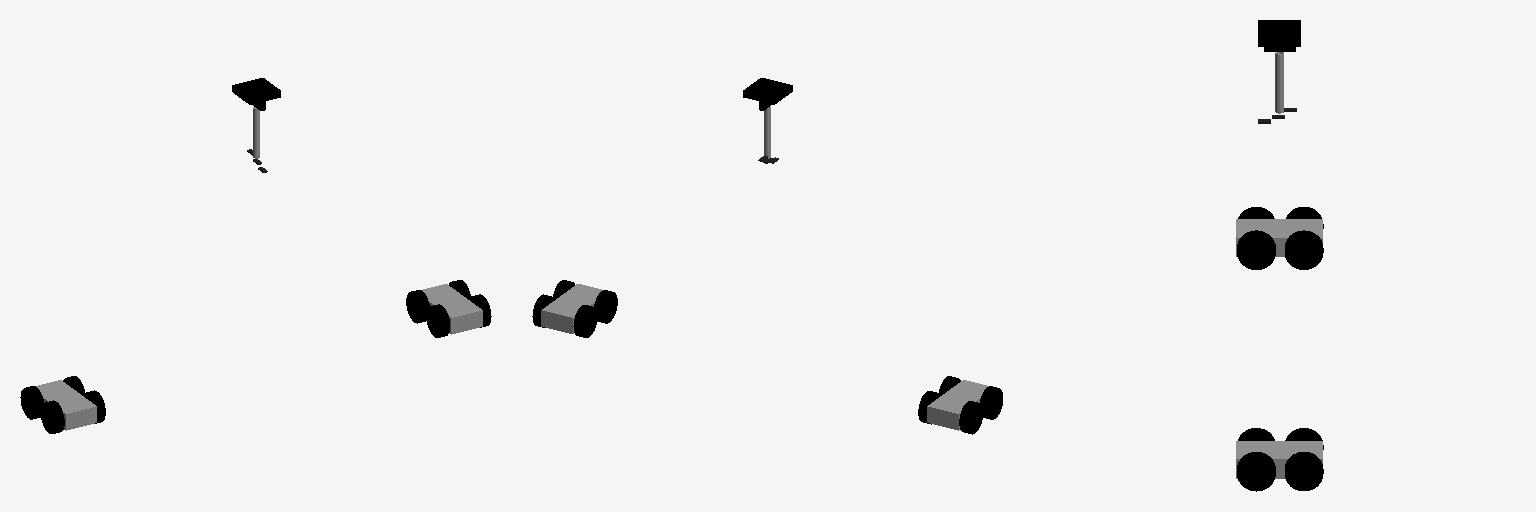
--- Render facts (derived) ---
The picture shows the robot from 3 angles, left to right: view 1: azimuth 30°, elevation 25°; view 2: azimuth 150°, elevation 25°; view 3: azimuth 270°, elevation 25°; orthographic projection.
Robot: frame — 36 links, 35 joints (8 continuous, 4 prismatic, 23 fixed); root link Untitled.020; default pose: all joints at 0.
Visible links, largest first — view 1: Untitled.009, Untitled.004, Untitled.026, Untitled.008, Untitled.017, Untitled.011, Untitled.007; view 2: Untitled.009, Untitled.004, Untitled.026, Untitled.007, Untitled.011, Untitled.017, Untitled.008; view 3: Untitled.004, Untitled.009, Untitled.005, Untitled.015, Untitled.006, Untitled.013, Untitled.026, Untitled.030.
Boxes of the visible links, x1,y1,x2,y2 form: Untitled.009: (422,284,482,334); Untitled.004: (36,380,96,430); Untitled.026: (232,78,280,104); Untitled.008: (41,400,64,433); Untitled.017: (426,304,449,337); Untitled.011: (406,290,429,323); Untitled.007: (20,386,43,419); Untitled.009: (541,284,602,333); Untitled.004: (927,380,988,430); Untitled.026: (743,78,792,104); Untitled.007: (959,401,982,434); Untitled.011: (573,305,597,337); Untitled.017: (594,290,617,323); Untitled.008: (980,386,1002,419); Untitled.004: (1236,219,1322,256); Untitled.009: (1236,441,1322,478); Untitled.005: (1237,230,1275,269); Untitled.015: (1237,452,1275,491); Untitled.006: (1285,230,1323,269); Untitled.013: (1285,452,1323,490); Untitled.026: (1258,20,1300,46); Untitled.030: (1275,52,1283,113).
Bounding box of the posed robot: 2.75 × 0.4022 × 1.73 m (x, y, z).
1 mesh visuals loaded from 7 distinct referenced files (1 binary STL); not drawn: 6 (reference not matched to a file when rendering).

URDF robot description (frame):
<?xml version="1.0"?>
<!-- created with Phobos 1.0.1 "Capricious Choutengan" -->
  <robot name="frame">

    <link name="Untitled">
      <inertial>
        <origin xyz="0 0 0" rpy="0 0 0"/>
        <mass value="0.001"/>
        <inertia ixx="0.001" ixy="0" ixz="0" iyy="0.001" iyz="0" izz="0.001"/>
      </inertial>
    </link>

    <link name="Untitled.001">
      <inertial>
        <origin xyz="0 0 0" rpy="0 0 0"/>
        <mass value="0.001"/>
        <inertia ixx="0.001" ixy="0" ixz="0" iyy="0.001" iyz="0" izz="0.001"/>
      </inertial>
    </link>

    <link name="Untitled.002">
      <inertial>
        <origin xyz="0 0 0" rpy="0 0 0"/>
        <mass value="0.001"/>
        <inertia ixx="0.001" ixy="0" ixz="0" iyy="0.001" iyz="0" izz="0.001"/>
      </inertial>
    </link>

    <link name="Untitled.003">
      <inertial>
        <origin xyz="0 0 0" rpy="0 0 0"/>
        <mass value="0.001"/>
        <inertia ixx="0.001" ixy="0" ixz="0" iyy="0.001" iyz="0" izz="0.001"/>
      </inertial>
    </link>

    <link name="Untitled.004">
      <inertial>
        <origin xyz="0 0 0" rpy="0 0 0"/>
        <mass value="4.0"/>
        <inertia ixx="0.00043" ixy="0" ixz="0" iyy="0.00145" iyz="0" izz="0.06667"/>
      </inertial>
      <visual name="base link.000">
        <origin xyz="0 0 0" rpy="0 0 0"/>
        <geometry>
          <box size="0.4 0.2 0.1"/>
        </geometry>
        <material name="Material.005"/>
      </visual>
      <collision name="base link.000">
        <origin xyz="0 0 0" rpy="0 0 0"/>
        <geometry>
          <box size="0.4 0.2 0.1"/>
        </geometry>
      </collision>
    </link>

    <link name="Untitled.005">
      <inertial>
        <origin xyz="0 0 0" rpy="0 0 0"/>
        <mass value="0.25"/>
        <inertia ixx="7e-05" ixy="0" ixz="0" iyy="0.00013" iyz="0" izz="0.00056"/>
      </inertial>
      <visual name="bl Link.000">
        <origin xyz="-0.0022 0 0" rpy="-3.14159 0 0"/>
        <geometry>
          <cylinder radius="0.09" length="0.05"/>
        </geometry>
        <material name="Material.004"/>
      </visual>
      <collision name="bl Link.000">
        <origin xyz="-0.0022 0 0" rpy="-3.14159 0 0"/>
        <geometry>
          <cylinder radius="0.09" length="0.05"/>
        </geometry>
      </collision>
    </link>

    <link name="Untitled.006">
      <inertial>
        <origin xyz="0 0 0" rpy="0 0 0"/>
        <mass value="0.25"/>
        <inertia ixx="7e-05" ixy="0" ixz="0" iyy="0.00013" iyz="0" izz="0.00056"/>
      </inertial>
      <visual name="bl Link.002.000">
        <origin xyz="-0.0022 0 0" rpy="-3.14159 0 0"/>
        <geometry>
          <cylinder radius="0.09" length="0.05"/>
        </geometry>
        <material name="Material.001"/>
      </visual>
      <collision name="bl Link.002.000">
        <origin xyz="-0.0022 0 0" rpy="-3.14159 0 0"/>
        <geometry>
          <cylinder radius="0.09" length="0.05"/>
        </geometry>
      </collision>
    </link>

    <link name="Untitled.007">
      <inertial>
        <origin xyz="0 0 0" rpy="0 0 0"/>
        <mass value="0.25"/>
        <inertia ixx="7e-05" ixy="0" ixz="0" iyy="0.00013" iyz="0" izz="0.00056"/>
      </inertial>
      <visual name="bl Link.003.000">
        <origin xyz="-0.0022 0 0" rpy="0 0 0"/>
        <geometry>
          <cylinder radius="0.09" length="0.05"/>
        </geometry>
        <material name="Material.002"/>
      </visual>
      <collision name="bl Link.003.000">
        <origin xyz="-0.0022 0 0" rpy="0 0 0"/>
        <geometry>
          <cylinder radius="0.09" length="0.05"/>
        </geometry>
      </collision>
    </link>

    <link name="Untitled.008">
      <inertial>
        <origin xyz="0 0 0" rpy="0 0 0"/>
        <mass value="0.25"/>
        <inertia ixx="7e-05" ixy="0" ixz="0" iyy="0.00013" iyz="0" izz="0.00056"/>
      </inertial>
      <visual name="bl Link.001.000">
        <origin xyz="-0.0022 0 0" rpy="0 0 0"/>
        <geometry>
          <cylinder radius="0.09" length="0.05"/>
        </geometry>
        <material name="Material.003"/>
      </visual>
      <collision name="bl Link.001.000">
        <origin xyz="-0.0022 0 0" rpy="0 0 0"/>
        <geometry>
          <cylinder radius="0.09" length="0.05"/>
        </geometry>
      </collision>
    </link>

    <link name="Untitled.009">
      <inertial>
        <origin xyz="0 0 0" rpy="0 0 0"/>
        <mass value="4.0"/>
        <inertia ixx="0.00043" ixy="0" ixz="0" iyy="0.00145" iyz="0" izz="0.06667"/>
      </inertial>
      <visual name="base link.001">
        <origin xyz="0 0 0" rpy="0 0 0"/>
        <geometry>
          <box size="0.4 0.2 0.1"/>
        </geometry>
        <material name="Material.005"/>
      </visual>
      <collision name="base link.000">
        <origin xyz="0 0 0" rpy="0 0 0"/>
        <geometry>
          <box size="0.4 0.2 0.1"/>
        </geometry>
      </collision>
    </link>

    <link name="Untitled.010">
      <inertial>
        <origin xyz="0 0 0" rpy="0 0 0"/>
        <mass value="0.001"/>
        <inertia ixx="0.001" ixy="0" ixz="0" iyy="0.001" iyz="0" izz="0.001"/>
      </inertial>
    </link>

    <link name="Untitled.011">
      <inertial>
        <origin xyz="0 0 0" rpy="0 0 0"/>
        <mass value="0.25"/>
        <inertia ixx="7e-05" ixy="0" ixz="0" iyy="0.00013" iyz="0" izz="0.00056"/>
      </inertial>
      <visual name="bl Link.003.001">
        <origin xyz="-0.0022 0 0" rpy="0 0 0"/>
        <geometry>
          <cylinder radius="0.09" length="0.05"/>
        </geometry>
        <material name="Material.002"/>
      </visual>
      <collision name="bl Link.003.000">
        <origin xyz="-0.0022 0 0" rpy="0 0 0"/>
        <geometry>
          <cylinder radius="0.09" length="0.05"/>
        </geometry>
      </collision>
    </link>

    <link name="Untitled.012">
      <inertial>
        <origin xyz="0 0 0" rpy="0 0 0"/>
        <mass value="0.001"/>
        <inertia ixx="0.001" ixy="0" ixz="0" iyy="0.001" iyz="0" izz="0.001"/>
      </inertial>
    </link>

    <link name="Untitled.013">
      <inertial>
        <origin xyz="0 0 0" rpy="0 0 0"/>
        <mass value="0.25"/>
        <inertia ixx="7e-05" ixy="0" ixz="0" iyy="0.00013" iyz="0" izz="0.00056"/>
      </inertial>
      <visual name="bl Link.002.001">
        <origin xyz="-0.0022 0 0" rpy="-3.14159 0 0"/>
        <geometry>
          <cylinder radius="0.09" length="0.05"/>
        </geometry>
        <material name="Material.001"/>
      </visual>
      <collision name="bl Link.002.000">
        <origin xyz="-0.0022 0 0" rpy="-3.14159 0 0"/>
        <geometry>
          <cylinder radius="0.09" length="0.05"/>
        </geometry>
      </collision>
    </link>

    <link name="Untitled.014">
      <inertial>
        <origin xyz="0 0 0" rpy="0 0 0"/>
        <mass value="0.001"/>
        <inertia ixx="0.001" ixy="0" ixz="0" iyy="0.001" iyz="0" izz="0.001"/>
      </inertial>
    </link>

    <link name="Untitled.015">
      <inertial>
        <origin xyz="0 0 0" rpy="0 0 0"/>
        <mass value="0.25"/>
        <inertia ixx="7e-05" ixy="0" ixz="0" iyy="0.00013" iyz="0" izz="0.00056"/>
      </inertial>
      <visual name="bl Link.001">
        <origin xyz="-0.0022 0 0" rpy="-3.14159 0 0"/>
        <geometry>
          <cylinder radius="0.09" length="0.05"/>
        </geometry>
        <material name="Material.004"/>
      </visual>
      <collision name="bl Link.000">
        <origin xyz="-0.0022 0 0" rpy="-3.14159 0 0"/>
        <geometry>
          <cylinder radius="0.09" length="0.05"/>
        </geometry>
      </collision>
    </link>

    <link name="Untitled.016">
      <inertial>
        <origin xyz="0 0 0" rpy="0 0 0"/>
        <mass value="0.001"/>
        <inertia ixx="0.001" ixy="0" ixz="0" iyy="0.001" iyz="0" izz="0.001"/>
      </inertial>
    </link>

    <link name="Untitled.017">
      <inertial>
        <origin xyz="0 0 0" rpy="0 0 0"/>
        <mass value="0.25"/>
        <inertia ixx="7e-05" ixy="0" ixz="0" iyy="0.00013" iyz="0" izz="0.00056"/>
      </inertial>
      <visual name="bl Link.001.001">
        <origin xyz="-0.0022 0 0" rpy="0 0 0"/>
        <geometry>
          <cylinder radius="0.09" length="0.05"/>
        </geometry>
        <material name="Material.003"/>
      </visual>
      <collision name="bl Link.001.000">
        <origin xyz="-0.0022 0 0" rpy="0 0 0"/>
        <geometry>
          <cylinder radius="0.09" length="0.05"/>
        </geometry>
      </collision>
    </link>

    <link name="Untitled.018">
      <inertial>
        <origin xyz="0 0 0" rpy="0 0 0"/>
        <mass value="0.001"/>
        <inertia ixx="0.001" ixy="0" ixz="0" iyy="0.001" iyz="0" izz="0.001"/>
      </inertial>
    </link>

    <link name="Untitled.019">
      <inertial>
        <origin xyz="0 0 0" rpy="0 0 0"/>
        <mass value="0.001"/>
        <inertia ixx="0.001" ixy="0" ixz="0" iyy="0.001" iyz="0" izz="0.001"/>
      </inertial>
    </link>

    <link name="Untitled.020">
      <inertial>
        <origin xyz="0 0 0" rpy="0 0 0"/>
        <mass value="6.0"/>
        <inertia ixx="5.68584" ixy="0" ixz="0" iyy="1.05355" iyz="0" izz="4.63377"/>
      </inertial>
      <visual name="base link.002">
        <origin xyz="0 0 -0.06" rpy="0 0 0"/>
        <geometry>
          <mesh filename="base link.004.stl" scale="1.0 1.0 1.0"/>
        </geometry>
        <material name="Material.007"/>
      </visual>
      <collision name="base link.002.000">
        <origin xyz="0 0 -0.06" rpy="0 0 0"/>
        <geometry>
          <mesh filename="base link.005.stl" scale="1.0 1.0 1.0"/>
        </geometry>
      </collision>
    </link>

    <link name="Untitled.021">
      <inertial>
        <origin xyz="0 0 0.01" rpy="0 0 0"/>
        <mass value="0.01"/>
        <inertia ixx="2e-05" ixy="0" ixz="0" iyy="2e-05" iyz="0" izz="2e-05"/>
      </inertial>
      <visual name="Cube.003">
        <origin xyz="0 0 0.01" rpy="0 0 0"/>
        <geometry>
          <box size="0.15 0.03 0.01"/>
        </geometry>
        <material name="Material.009"/>
      </visual>
      <collision name="Cube.003">
        <origin xyz="0 0 0.01" rpy="0 0 0"/>
        <geometry>
          <box size="0.15 0.03 0.01"/>
        </geometry>
      </collision>
    </link>

    <link name="Untitled.022">
      <inertial>
        <origin xyz="0 0 0" rpy="0 0 0"/>
        <mass value="0.05"/>
        <inertia ixx="2e-05" ixy="0" ixz="0" iyy="2e-05" iyz="0" izz="2e-05"/>
      </inertial>
      <visual name="Cube.002">
        <origin xyz="0 0 0" rpy="0 0 0"/>
        <geometry>
          <box size="0.03 0.03 0.06"/>
        </geometry>
        <material name="Material.010"/>
      </visual>
      <collision name="Cube.002">
        <origin xyz="0 0 0" rpy="0 0 0"/>
        <geometry>
          <box size="0.03 0.03 0.06"/>
        </geometry>
      </collision>
    </link>

    <link name="Untitled.023">
      <inertial>
        <origin xyz="0 0 0" rpy="0 0 0"/>
        <mass value="0.05"/>
        <inertia ixx="2e-05" ixy="0" ixz="0" iyy="2e-05" iyz="0" izz="2e-05"/>
      </inertial>
      <visual name="Cube.001">
        <origin xyz="0 0 0" rpy="0 0 0"/>
        <geometry>
          <box size="0.03 0.03 0.06"/>
        </geometry>
        <material name="Material.010"/>
      </visual>
      <collision name="Cube.001">
        <origin xyz="0 0 0" rpy="0 0 0"/>
        <geometry>
          <box size="0.03 0.03 0.06"/>
        </geometry>
      </collision>
    </link>

    <link name="Untitled.024">
      <inertial>
        <origin xyz="0 0 0" rpy="0 0 0"/>
        <mass value="0.001"/>
        <inertia ixx="0.001" ixy="0" ixz="0" iyy="0.001" iyz="0" izz="0.001"/>
      </inertial>
    </link>

    <link name="Untitled.025">
      <inertial>
        <origin xyz="0 0 0" rpy="0 0 0"/>
        <mass value="0.001"/>
        <inertia ixx="0.001" ixy="0" ixz="0" iyy="0.001" iyz="0" izz="0.001"/>
      </inertial>
    </link>

    <link name="Untitled.026">
      <inertial>
        <origin xyz="0 0 0" rpy="0 0 0"/>
        <mass value="0.5"/>
        <inertia ixx="2e-05" ixy="0" ixz="0" iyy="2e-05" iyz="0" izz="2e-05"/>
      </inertial>
      <visual name="Cube">
        <origin xyz="0 0 0" rpy="-1.5708 0 0"/>
        <geometry>
          <box size="0.2 0.2 0.04"/>
        </geometry>
        <material name="Material.008"/>
      </visual>
      <collision name="Cube">
        <origin xyz="0 0 0" rpy="-1.5708 0 0"/>
        <geometry>
          <box size="0.2 0.2 0.04"/>
        </geometry>
      </collision>
    </link>

    <link name="Untitled.027">
      <inertial>
        <origin xyz="0 0 0" rpy="0 0 0"/>
        <mass value="0.5"/>
        <inertia ixx="0.00286" ixy="0" ixz="0" iyy="0.00286" iyz="0" izz="0.0001"/>
      </inertial>
      <visual name="base link">
        <origin xyz="0 0 0" rpy="0 0 0"/>
        <geometry>
          <mesh filename="base link.006.stl" scale="1.0 1.0 1.0"/>
        </geometry>
        <material name="Material.011"/>
      </visual>
      <collision name="base link.000.001.002">
        <origin xyz="0 0.00061 0" rpy="0 0 0"/>
        <geometry>
          <mesh filename="base link.009.stl" scale="1.0 1.0 1.0"/>
        </geometry>
      </collision>
    </link>

    <link name="Untitled.028">
      <inertial>
        <origin xyz="0 0 0.02952" rpy="0 0 0"/>
        <mass value="0.5"/>
        <inertia ixx="0.00377" ixy="0" ixz="0" iyy="0.00377" iyz="0" izz="4e-05"/>
      </inertial>
      <visual name="inner Link">
        <origin xyz="0 0 0.02952" rpy="0 0 0"/>
        <geometry>
          <mesh filename="inner Link.stl" scale="1.0 1.0 1.0"/>
        </geometry>
        <material name="Material.012"/>
      </visual>
      <collision name="inner Link.000">
        <origin xyz="0 0 0.02952" rpy="0 0 0"/>
        <geometry>
          <mesh filename="inner Link.003.stl" scale="1.0 1.0 1.0"/>
        </geometry>
      </collision>
    </link>

    <link name="Untitled.029">
      <inertial>
        <origin xyz="0 0 0" rpy="0 0 0"/>
        <mass value="0.1"/>
        <inertia ixx="2e-05" ixy="0" ixz="0" iyy="2e-05" iyz="0" izz="2e-05"/>
      </inertial>
      <visual name="Cube.004">
        <origin xyz="0 0 0" rpy="0 0 0"/>
        <geometry>
          <box size="0.06 0.026 0.01"/>
        </geometry>
        <material name="Material.013"/>
      </visual>
      <collision name="Cube.004">
        <origin xyz="0 0 0" rpy="0 0 0"/>
        <geometry>
          <box size="0.06 0.026 0.01"/>
        </geometry>
      </collision>
    </link>

    <link name="Untitled.030">
      <inertial>
        <origin xyz="0 0 0" rpy="0 0 0"/>
        <mass value="0.5"/>
        <inertia ixx="0.00286" ixy="0" ixz="0" iyy="0.00286" iyz="0" izz="0.0001"/>
      </inertial>
      <visual name="base link.003">
        <origin xyz="0 0 0" rpy="0 0 0"/>
        <geometry>
          <mesh filename="base link.007.stl" scale="1.0 1.0 1.0"/>
        </geometry>
        <material name="Material.014"/>
      </visual>
      <collision name="base link.003.000">
        <origin xyz="0 0 0" rpy="0 0 0"/>
        <geometry>
          <mesh filename="base link.010.stl" scale="1.0 1.0 1.0"/>
        </geometry>
      </collision>
    </link>

    <link name="Untitled.031">
      <inertial>
        <origin xyz="0 0 0" rpy="0 0 0"/>
        <mass value="0.5"/>
        <inertia ixx="0.00377" ixy="0" ixz="0" iyy="0.00377" iyz="0" izz="4e-05"/>
      </inertial>
      <visual name="inner Link.001">
        <origin xyz="0 0 0" rpy="0 0 0"/>
        <geometry>
          <mesh filename="inner Link.001.stl" scale="1.0 1.0 1.0"/>
        </geometry>
        <material name="Material.015"/>
      </visual>
      <collision name="inner Link.001.000">
        <origin xyz="0 0 0" rpy="0 0 0"/>
        <geometry>
          <mesh filename="inner Link.004.stl" scale="1.0 1.0 1.0"/>
        </geometry>
      </collision>
    </link>

    <link name="Untitled.032">
      <inertial>
        <origin xyz="0 0 0" rpy="0 0 0"/>
        <mass value="0.1"/>
        <inertia ixx="2e-05" ixy="0" ixz="0" iyy="2e-05" iyz="0" izz="2e-05"/>
      </inertial>
      <visual name="Cube.005">
        <origin xyz="0 0 0" rpy="0 0 0"/>
        <geometry>
          <box size="0.06 0.026 0.01"/>
        </geometry>
        <material name="Material.016"/>
      </visual>
      <collision name="Cube.005">
        <origin xyz="0 0 0" rpy="0 0 0"/>
        <geometry>
          <box size="0.06 0.026 0.01"/>
        </geometry>
      </collision>
    </link>

    <link name="Untitled.033">
      <inertial>
        <origin xyz="0 0 0" rpy="0 0 0"/>
        <mass value="0.5"/>
        <inertia ixx="0.00286" ixy="0" ixz="0" iyy="0.00286" iyz="0" izz="0.0001"/>
      </inertial>
      <visual name="base link.004">
        <origin xyz="0 0 0" rpy="0 0 0"/>
        <geometry>
          <mesh filename="base link.008.stl" scale="1.0 1.0 1.0"/>
        </geometry>
        <material name="Material.017"/>
      </visual>
      <collision name="base link.004.000">
        <origin xyz="0 0 0" rpy="0 0 0"/>
        <geometry>
          <mesh filename="base link.011.stl" scale="1.0 1.0 1.0"/>
        </geometry>
      </collision>
    </link>

    <link name="Untitled.034">
      <inertial>
        <origin xyz="0 0 0" rpy="0 0 0"/>
        <mass value="0.5"/>
        <inertia ixx="0.00377" ixy="0" ixz="0" iyy="0.00377" iyz="0" izz="4e-05"/>
      </inertial>
      <visual name="inner Link.002">
        <origin xyz="0 0 0" rpy="0 0 0"/>
        <geometry>
          <mesh filename="inner Link.002.stl" scale="1.0 1.0 1.0"/>
        </geometry>
        <material name="Material.018"/>
      </visual>
      <collision name="inner Link.002.000">
        <origin xyz="0 0 0" rpy="0 0 0"/>
        <geometry>
          <mesh filename="inner Link.005.stl" scale="1.0 1.0 1.0"/>
        </geometry>
      </collision>
    </link>

    <link name="Untitled.035">
      <inertial>
        <origin xyz="0 0 0" rpy="0 0 0"/>
        <mass value="0.1"/>
        <inertia ixx="2e-05" ixy="0" ixz="0" iyy="2e-05" iyz="0" izz="2e-05"/>
      </inertial>
      <visual name="Cube.006">
        <origin xyz="0 0 0" rpy="0 0 0"/>
        <geometry>
          <box size="0.06 0.026 0.01"/>
        </geometry>
        <material name="Material.019"/>
      </visual>
      <collision name="Cube.006">
        <origin xyz="0 0 0" rpy="0 0 0"/>
        <geometry>
          <box size="0.06 0.026 0.01"/>
        </geometry>
      </collision>
    </link>

    <joint name="Untitled" type="fixed">
      <origin xyz="-0.11 0.06 0" rpy="1.5708 0 0"/>
      <parent link="Untitled.004"/>
      <child link="Untitled"/>
    </joint>

    <joint name="Untitled.001" type="fixed">
      <origin xyz="-0.11 -0.06 0" rpy="-1.5708 0 0"/>
      <parent link="Untitled.004"/>
      <child link="Untitled.001"/>
    </joint>

    <joint name="Untitled.002" type="fixed">
      <origin xyz="0.11 0.06 0" rpy="1.5708 0 0"/>
      <parent link="Untitled.004"/>
      <child link="Untitled.002"/>
    </joint>

    <joint name="Untitled.003" type="fixed">
      <origin xyz="0.11 -0.06 0" rpy="-1.5708 0 0"/>
      <parent link="Untitled.004"/>
      <child link="Untitled.003"/>
    </joint>

    <joint name="Untitled.004" type="fixed">
      <origin xyz="0 0 -0.07" rpy="0 0 -1.5708"/>
      <parent link="Untitled.018"/>
      <child link="Untitled.004"/>
    </joint>

    <joint name="Untitled.005" type="continuous">
      <origin xyz="0 0 -0.07" rpy="3.14159 0 0"/>
      <parent link="Untitled.002"/>
      <child link="Untitled.005"/>
      <axis xyz="0 0 1.0"/>
      <limit effort="0.1" velocity="1.5"/>
    </joint>

    <joint name="Untitled.006" type="continuous">
      <origin xyz="0 0 -0.07" rpy="3.14159 0 0"/>
      <parent link="Untitled"/>
      <child link="Untitled.006"/>
      <axis xyz="0 0 1.0"/>
      <limit effort="0.1" velocity="1.5"/>
    </joint>

    <joint name="Untitled.007" type="continuous">
      <origin xyz="0 0 -0.07" rpy="-3.14159 0 0"/>
      <parent link="Untitled.001"/>
      <child link="Untitled.007"/>
      <axis xyz="0 0 1.0"/>
      <limit effort="0.1" velocity="1.5"/>
    </joint>

    <joint name="Untitled.008" type="continuous">
      <origin xyz="0 0 -0.07" rpy="-3.14159 0 0"/>
      <parent link="Untitled.003"/>
      <child link="Untitled.008"/>
      <axis xyz="0 0 1.0"/>
      <limit effort="0.1" velocity="1.5"/>
    </joint>

    <joint name="Untitled.009" type="fixed">
      <origin xyz="0 0 -0.0576" rpy="0 0 -1.5708"/>
      <parent link="Untitled.019"/>
      <child link="Untitled.009"/>
    </joint>

    <joint name="Untitled.010" type="fixed">
      <origin xyz="-0.11 -0.06 0" rpy="-1.5708 0 0"/>
      <parent link="Untitled.009"/>
      <child link="Untitled.010"/>
    </joint>

    <joint name="Untitled.011" type="continuous">
      <origin xyz="0 0 -0.07" rpy="-3.14159 0 0"/>
      <parent link="Untitled.010"/>
      <child link="Untitled.011"/>
      <axis xyz="0 0 1.0"/>
      <limit effort="0.1" velocity="1.5"/>
    </joint>

    <joint name="Untitled.012" type="fixed">
      <origin xyz="-0.11 0.06 0" rpy="1.5708 0 0"/>
      <parent link="Untitled.009"/>
      <child link="Untitled.012"/>
    </joint>

    <joint name="Untitled.013" type="continuous">
      <origin xyz="0 0 -0.07" rpy="3.14159 0 0"/>
      <parent link="Untitled.012"/>
      <child link="Untitled.013"/>
      <axis xyz="0 0 1.0"/>
      <limit effort="0.1" velocity="1.5"/>
    </joint>

    <joint name="Untitled.014" type="fixed">
      <origin xyz="0.11 0.06 0" rpy="1.5708 0 0"/>
      <parent link="Untitled.009"/>
      <child link="Untitled.014"/>
    </joint>

    <joint name="Untitled.015" type="continuous">
      <origin xyz="0 0 -0.07" rpy="3.14159 0 0"/>
      <parent link="Untitled.014"/>
      <child link="Untitled.015"/>
      <axis xyz="0 0 1.0"/>
      <limit effort="0.1" velocity="1.5"/>
    </joint>

    <joint name="Untitled.016" type="fixed">
      <origin xyz="0.11 -0.06 0" rpy="-1.5708 0 0"/>
      <parent link="Untitled.009"/>
      <child link="Untitled.016"/>
    </joint>

    <joint name="Untitled.017" type="continuous">
      <origin xyz="0 0 -0.07" rpy="-3.14159 0 0"/>
      <parent link="Untitled.016"/>
      <child link="Untitled.017"/>
      <axis xyz="0 0 1.0"/>
      <limit effort="0.1" velocity="1.5"/>
    </joint>

    <joint name="Untitled.018" type="fixed">
      <origin xyz="-1.225 0 -1.18292" rpy="0 0 0"/>
      <parent link="Untitled.020"/>
      <child link="Untitled.018"/>
    </joint>

    <joint name="Untitled.019" type="fixed">
      <origin xyz="1.22 0 -1.18292" rpy="0 0 0"/>
      <parent link="Untitled.020"/>
      <child link="Untitled.019"/>
    </joint>

    <joint name="Untitled.021" type="fixed">
      <origin xyz="0.06656 -0.00819 -0.00718" rpy="0 0 0"/>
      <parent link="Untitled.024"/>
      <child link="Untitled.021"/>
    </joint>

    <joint name="Untitled.022" type="fixed">
      <origin xyz="-0.06 -0.05371 0" rpy="-1.5708 0 0"/>
      <parent link="Untitled.026"/>
      <child link="Untitled.022"/>
    </joint>

    <joint name="Untitled.023" type="fixed">
      <origin xyz="0.06 -0.05371 0" rpy="-1.5708 0 0"/>
      <parent link="Untitled.026"/>
      <child link="Untitled.023"/>
    </joint>

    <joint name="Untitled.024" type="fixed">
      <origin xyz="-0.00656 0.00819 -0.03142" rpy="0 0 0"/>
      <parent link="Untitled.022"/>
      <child link="Untitled.024"/>
    </joint>

    <joint name="Untitled.025" type="fixed">
      <origin xyz="0.00237 -0.00899 -0.03609" rpy="0 0 0"/>
      <parent link="Untitled.023"/>
      <child link="Untitled.025"/>
    </joint>

    <joint name="Untitled.026" type="prismatic">
      <origin xyz="0 0 0.36263" rpy="1.5708 0 -1.5708"/>
      <parent link="Untitled.020"/>
      <child link="Untitled.026"/>
      <axis xyz="0 0 1.0"/>
      <limit lower="-1.2931" upper="1.29" effort="0.1" velocity="1.0"/>
    </joint>

    <joint name="Untitled.027" type="fixed">
      <origin xyz="0.00656 -0.00819 -0.15126" rpy="0 0 0"/>
      <parent link="Untitled.024"/>
      <child link="Untitled.027"/>
    </joint>

    <joint name="Untitled.028" type="prismatic">
      <origin xyz="0 0 -0.02468" rpy="0 0 0"/>
      <parent link="Untitled.027"/>
      <child link="Untitled.028"/>
      <axis xyz="0 0 1.0"/>
      <limit lower="-1.2931" upper="1.29" effort="0.1" velocity="1.0"/>
    </joint>

    <joint name="Untitled.029" type="fixed">
      <origin xyz="0.01 0 -0.12848" rpy="0 0 0"/>
      <parent link="Untitled.028"/>
      <child link="Untitled.029"/>
    </joint>

    <joint name="Untitled.030" type="fixed">
      <origin xyz="0.05 0 0.14075" rpy="0 0 0"/>
      <parent link="Untitled.029"/>
      <child link="Untitled.030"/>
    </joint>

    <joint name="Untitled.031" type="prismatic">
      <origin xyz="0 0 -0.02247" rpy="0 0 0"/>
      <parent link="Untitled.030"/>
      <child link="Untitled.031"/>
      <axis xyz="0 0 1.0"/>
      <limit lower="-1.2931" upper="1.29" effort="0.1" velocity="1.0"/>
    </joint>

    <joint name="Untitled.032" type="fixed">
      <origin xyz="0.00738 0.0014 -0.1528" rpy="0 0 0"/>
      <parent link="Untitled.031"/>
      <child link="Untitled.032"/>
    </joint>

    <joint name="Untitled.033" type="fixed">
      <origin xyz="0.05262 -0.0014 0.13993" rpy="0 0 0"/>
      <parent link="Untitled.032"/>
      <child link="Untitled.033"/>
    </joint>

    <joint name="Untitled.034" type="prismatic">
      <origin xyz="0 0 -0.01" rpy="0 0 0"/>
      <parent link="Untitled.033"/>
      <child link="Untitled.034"/>
      <axis xyz="0 0 1.0"/>
      <limit lower="-1.2931" upper="1.29" effort="0.1" velocity="1.0"/>
    </joint>

    <joint name="Untitled.035" type="fixed">
      <origin xyz="0.00989 -0.00047 -0.15397" rpy="0 0 0"/>
      <parent link="Untitled.034"/>
      <child link="Untitled.035"/>
    </joint>

    <material name="Material.001">
      <color rgba="0 0 0 1.0"/>
    </material>

    <material name="Material.002">
      <color rgba="0 0 0 1.0"/>
    </material>

    <material name="Material.003">
      <color rgba="0 0 0 1.0"/>
    </material>

    <material name="Material.004">
      <color rgba="0 0 0 1.0"/>
    </material>

    <material name="Material.005">
      <color rgba="0.64 0.64 0.64 1.0"/>
    </material>

    <material name="Material.007">
      <color rgba="0.4 0.4 0.4 1.0"/>
    </material>

    <material name="Material.008">
      <color rgba="0 0 0 1.0"/>
    </material>

    <material name="Material.009">
      <color rgba="0 0 0 1.0"/>
    </material>

    <material name="Material.010">
      <color rgba="0 0 0 1.0"/>
    </material>

    <material name="Material.011">
      <color rgba="0.64 0.64 0.64 1.0"/>
    </material>

    <material name="Material.012">
      <color rgba="0.16 0.16 0.16 1.0"/>
    </material>

    <material name="Material.013">
      <color rgba="0.16 0.16 0.16 1.0"/>
    </material>

    <material name="Material.014">
      <color rgba="0.64 0.64 0.64 1.0"/>
    </material>

    <material name="Material.015">
      <color rgba="0.16 0.16 0.16 1.0"/>
    </material>

    <material name="Material.016">
      <color rgba="0.16 0.16 0.16 1.0"/>
    </material>

    <material name="Material.017">
      <color rgba="0.64 0.64 0.64 1.0"/>
    </material>

    <material name="Material.018">
      <color rgba="0.16 0.16 0.16 1.0"/>
    </material>

    <material name="Material.019">
      <color rgba="0.16 0.16 0.16 1.0"/>
    </material>

  </robot>
